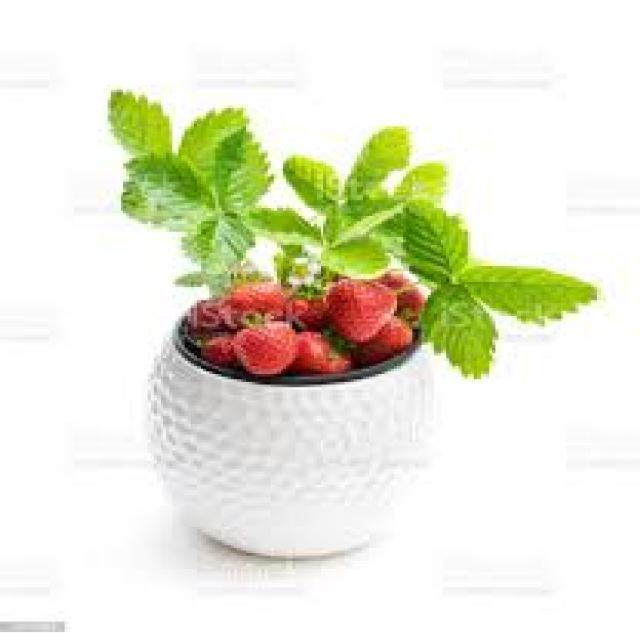Fruta sana: (332, 276, 398, 336), (238, 325, 298, 381), (292, 329, 354, 376), (221, 281, 291, 321), (358, 312, 414, 359), (280, 290, 330, 330), (195, 325, 232, 365)
